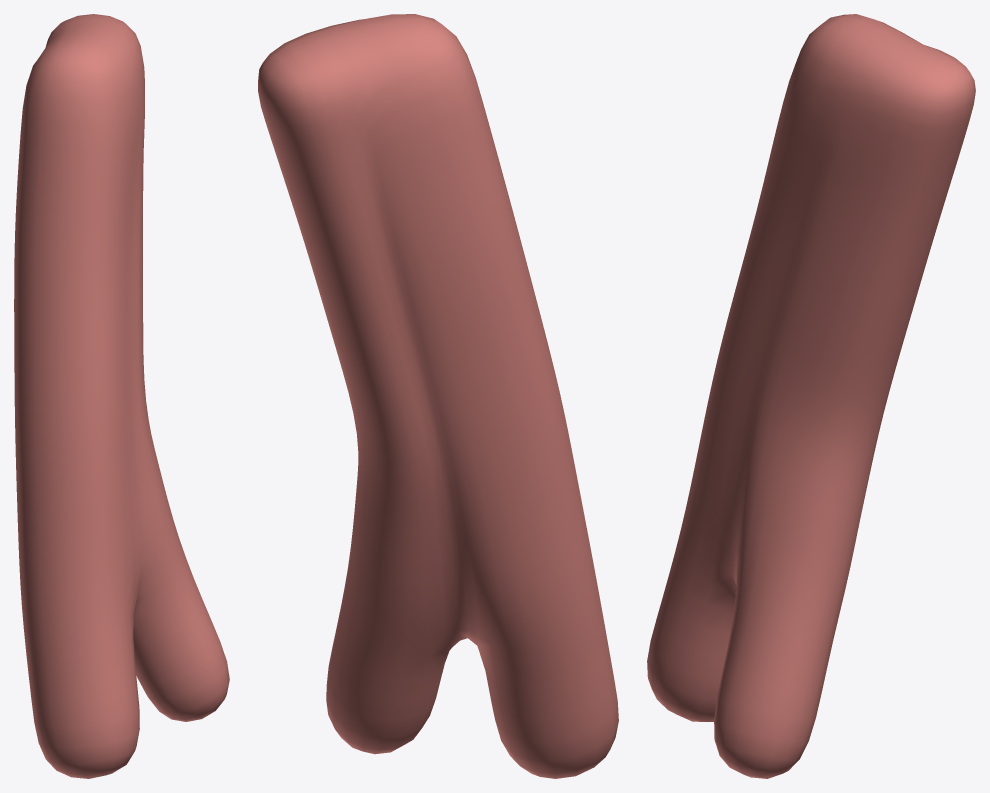
3 views of the same model, side by side, from view 1: azimuth 30°, elevation 25°; view 2: azimuth 150°, elevation 25°; view 3: azimuth 270°, elevation 25° (orthographic). The views are drawn at different scales.
Visible parts, largest first — view 1: ZA_a250b6a53af7f133; view 2: ZA_a250b6a53af7f133; view 3: ZA_a250b6a53af7f133.
Boxes of the visible parts, x1,y1,x2,y2 form: ZA_a250b6a53af7f133: [14, 14, 229, 778]; ZA_a250b6a53af7f133: [258, 14, 618, 778]; ZA_a250b6a53af7f133: [647, 14, 975, 778].
Size of the model in its own units: 0.0106 by 0.0324 by 0.0133.
